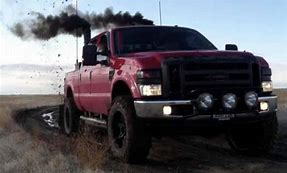smoke: (5, 12, 90, 40), (79, 6, 156, 29)
